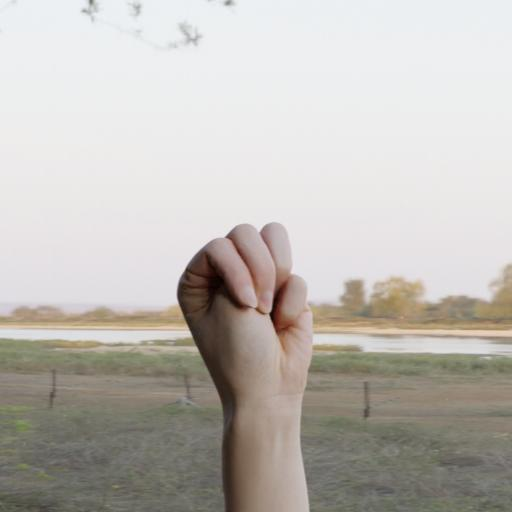M: (157, 213, 350, 512)
